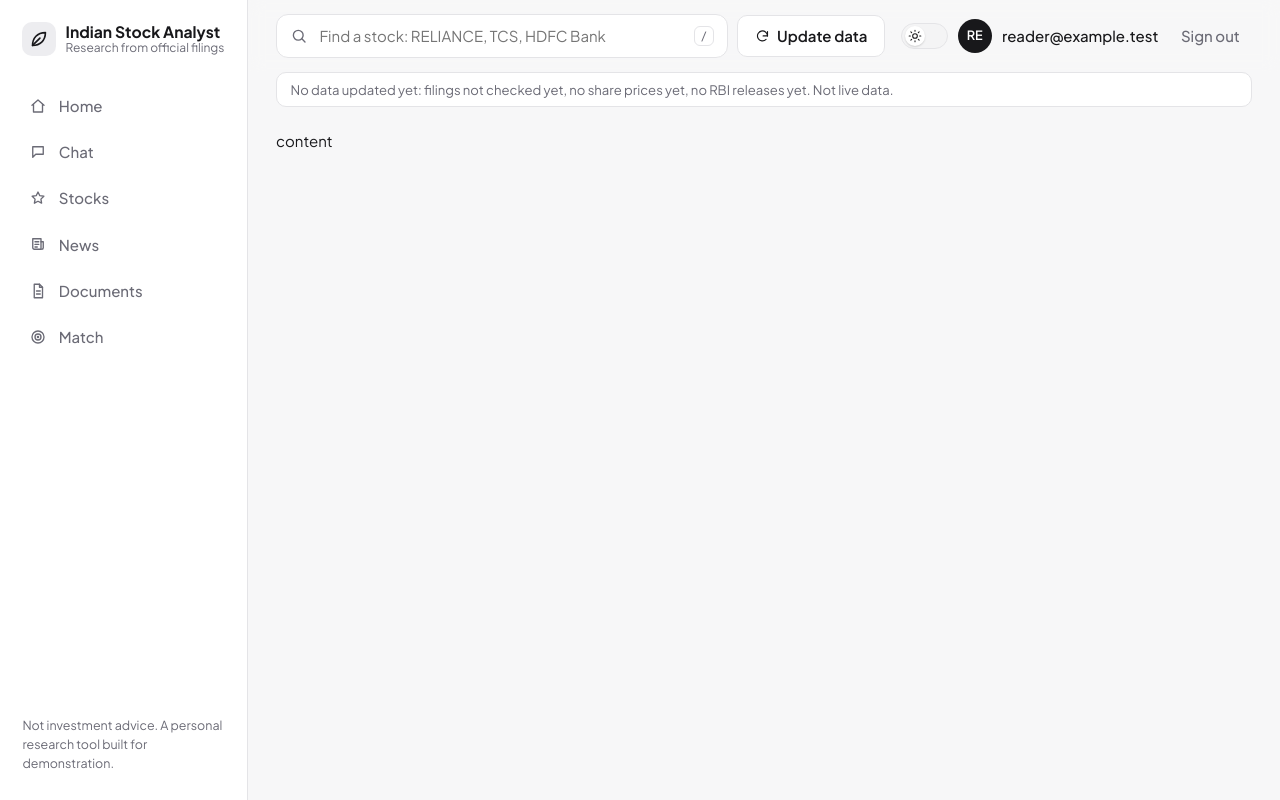
Test: how fresh the data is, on every page › updates filings, prices and RBI releases in one click, and says so
Click the button "Update data": (811, 36) top-left (737, 15), bottom-right (885, 57)
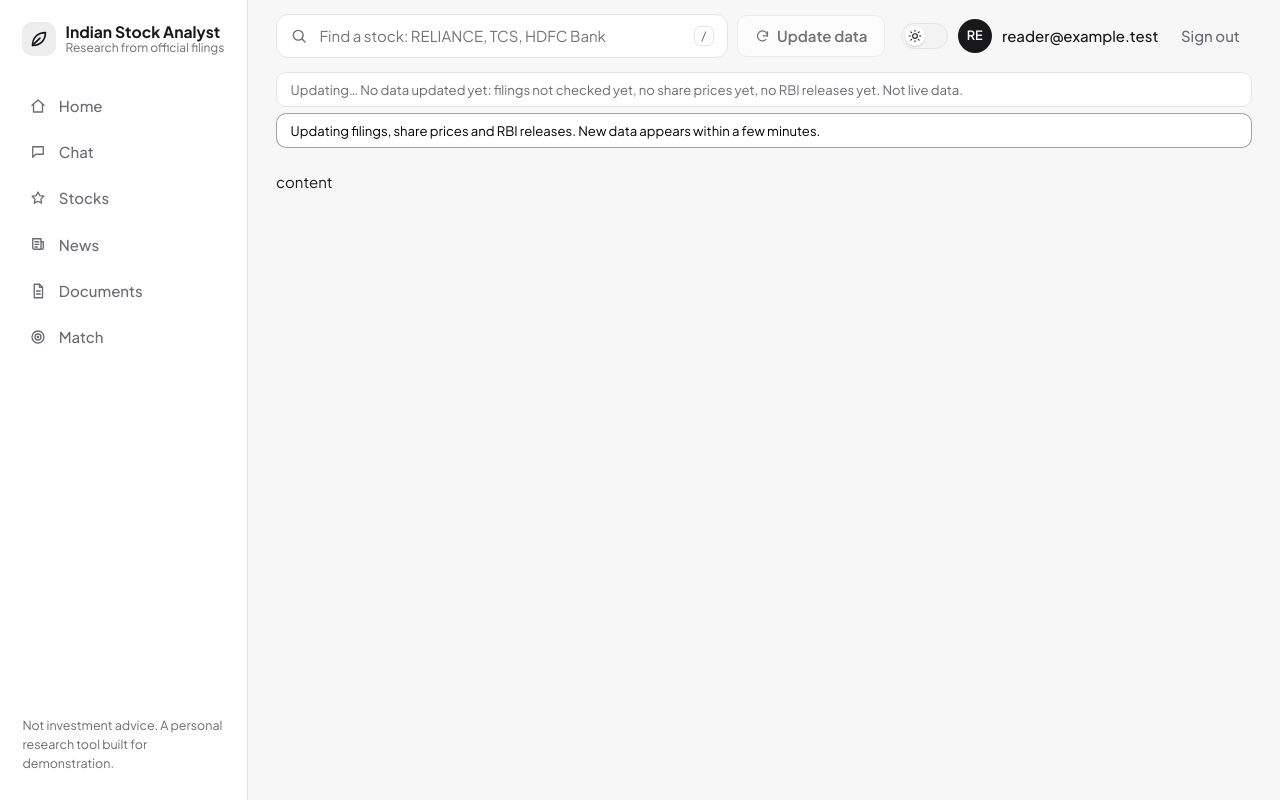
Result: the text "New data appears within a few minutes" shows "Updating filings, share prices and RBI releases. New data appears within a few minutes." at top-left (291, 122), bottom-right (820, 139)
Result: the text named "Data freshness" shows "Updating…" at top-left (291, 81), bottom-right (963, 98)
